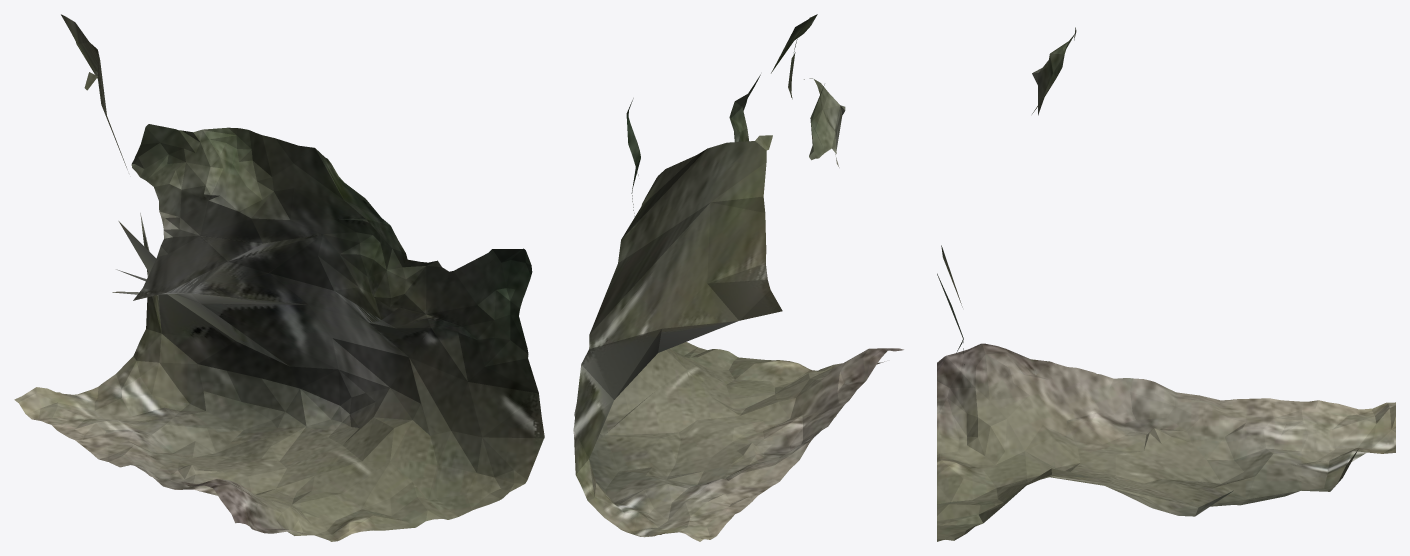
3 renders of one model, left to right at view 1: azimuth 30°, elevation 25°; view 2: azimuth 150°, elevation 25°; view 3: azimuth 270°, elevation 25°, orthographic. The views are drawn at different scales.
Bounding box in the file's own units: 4.77 × 5.82 × 5.9.
4 materials, 4 textured.
